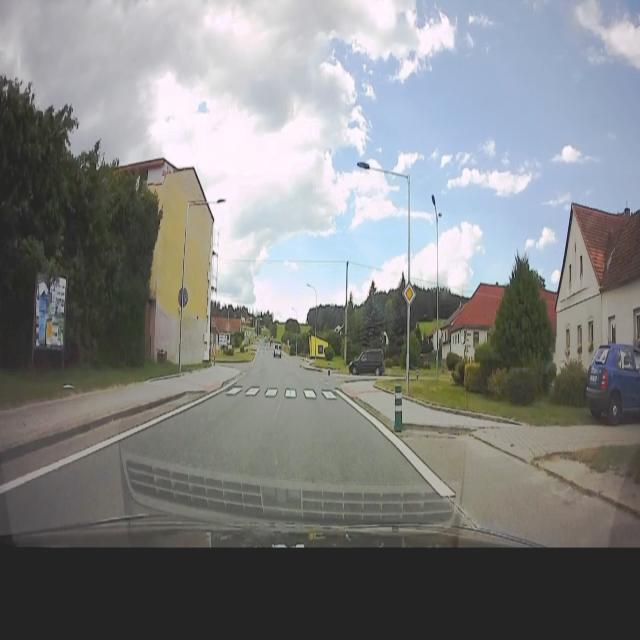Priority road: (402, 280, 417, 307)
